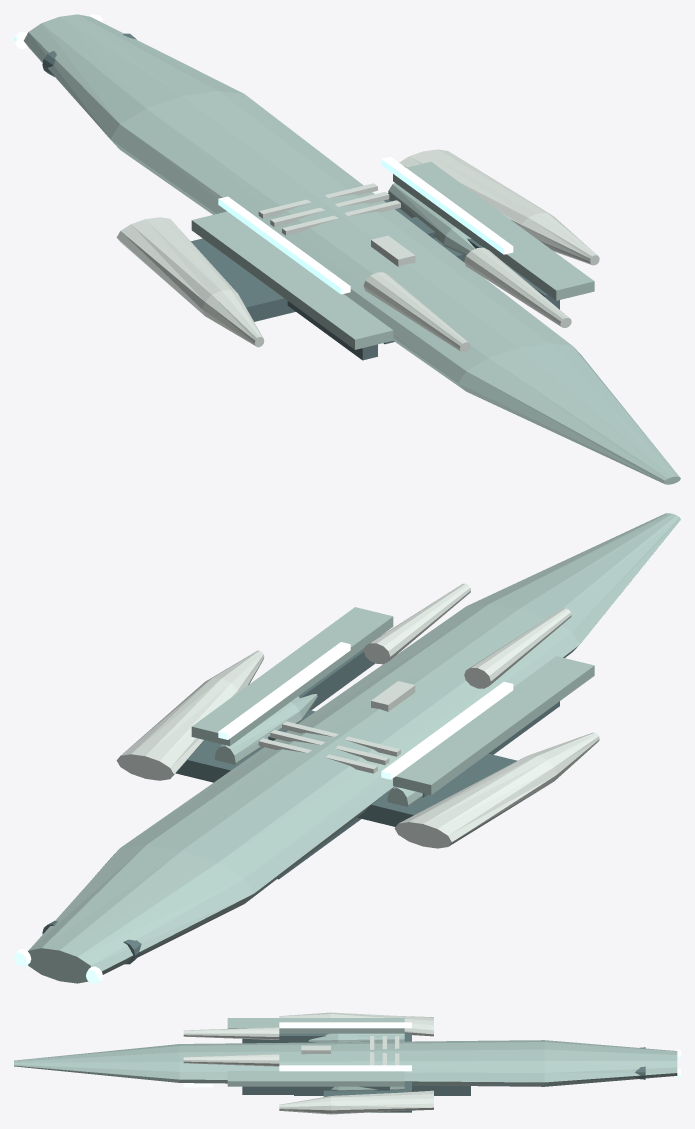
3 renders of one model, top to bottom at view 1: azimuth 30°, elevation 25°; view 2: azimuth 150°, elevation 25°; view 3: azimuth 270°, elevation 25°, orthographic. The views are drawn at different scales.
Size of the model in its own units: 6.73 by 1.58 by 20.27.
